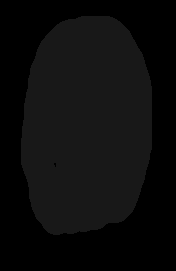fp: (16, 12, 158, 240)
